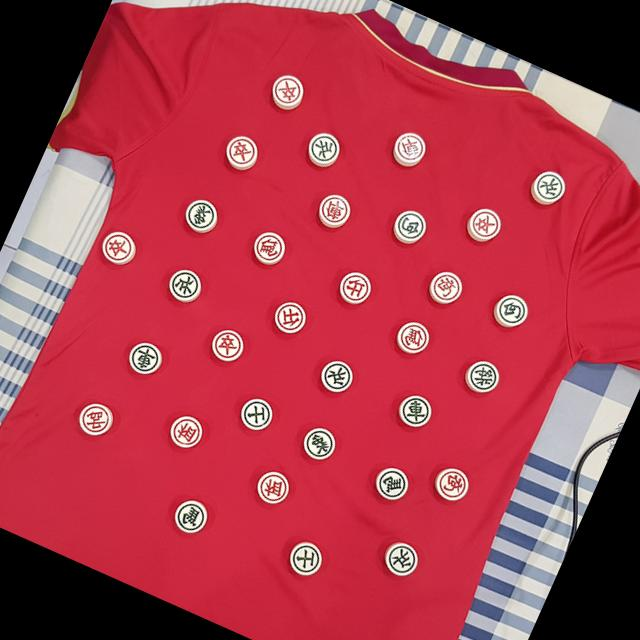black-advisor: (278, 534, 332, 586), (232, 389, 280, 438)
black-cannon: (486, 286, 539, 338), (384, 202, 434, 252)
black-chariot: (391, 386, 442, 436), (120, 334, 168, 382)
black-elephant: (174, 191, 227, 241), (295, 418, 344, 468)
black-general: (457, 352, 508, 404)
black-horse: (365, 459, 418, 512), (164, 492, 216, 544)
black-soldier: (374, 534, 426, 586), (310, 351, 362, 402), (299, 124, 348, 175), (523, 164, 574, 212), (162, 261, 210, 310)
red-advisor: (328, 263, 378, 314), (268, 296, 312, 340)
red-cannon: (420, 261, 470, 314), (426, 459, 476, 508)
red-chariot: (308, 186, 358, 235), (387, 126, 430, 170)
red-elephant: (161, 409, 208, 456), (249, 465, 295, 511)
red-general: (72, 396, 120, 444)
red-horse: (245, 222, 293, 272), (387, 314, 437, 362)
red-soldier: (218, 126, 268, 178), (457, 199, 509, 249), (202, 320, 250, 371), (96, 224, 144, 272), (265, 66, 310, 115)
